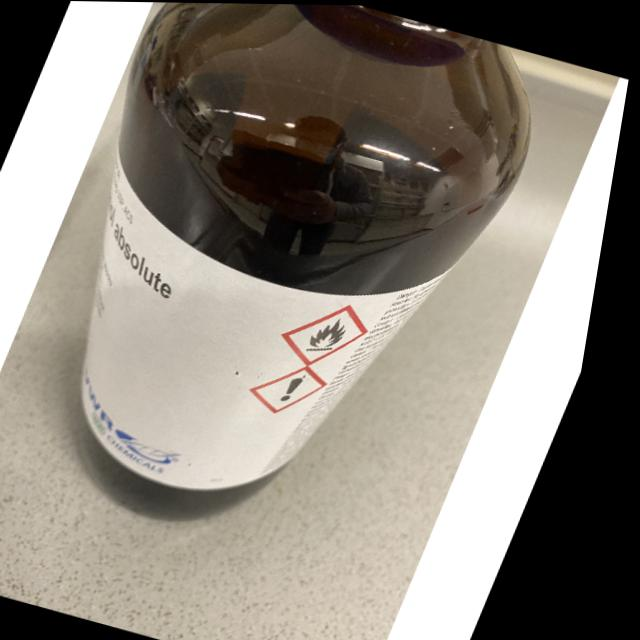flammable: (316, 312, 362, 357)
health-ozone layer hazard: (292, 373, 316, 403)
